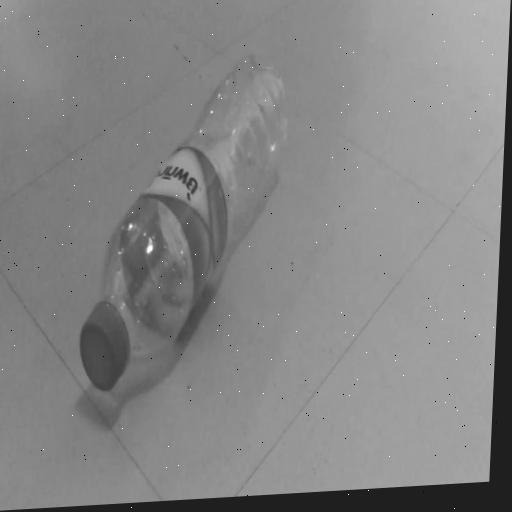bottle: (60, 30, 312, 416)
